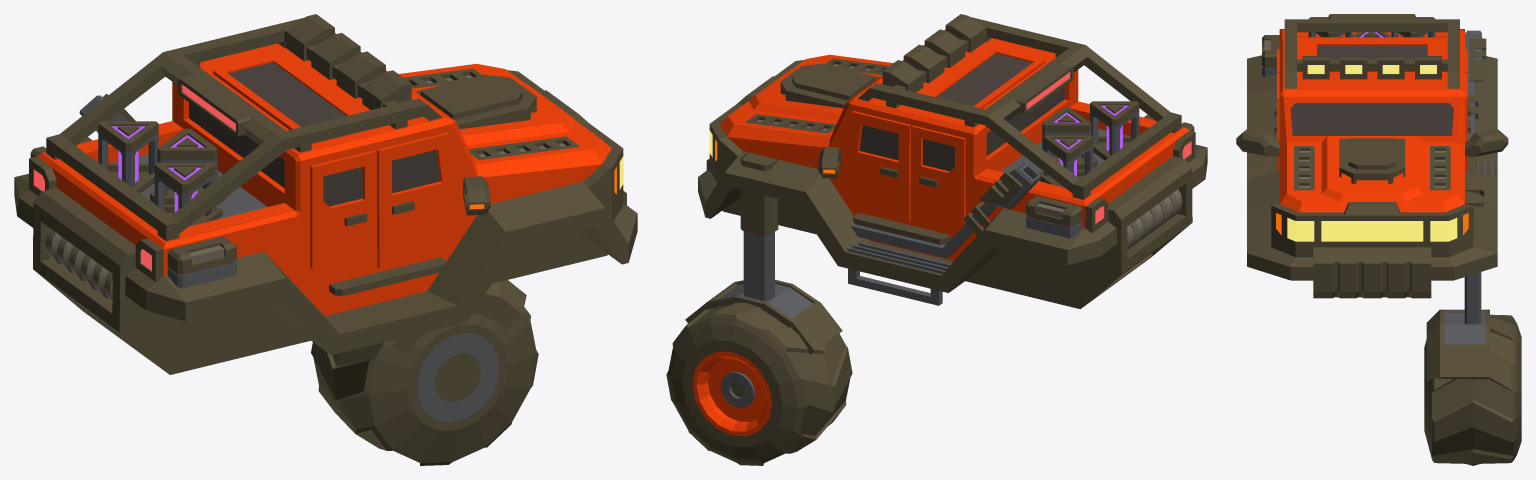
The picture shows the model from 3 angles, left to right: view 1: azimuth 30°, elevation 25°; view 2: azimuth 150°, elevation 25°; view 3: azimuth 270°, elevation 25°; orthographic projection. The views are drawn at different scales.
Parts seen in each view (by area): view 1: common, bodyPainted.001, wheel.006, wheelGuard.001, energy.001, cellsCage.003, cellsCage.005, cellsCage.004; view 2: common, bodyPainted.001, wheel.006, wheelPainted, wheelSuspension.002, wheelGuard.001, energy.001, cellsCage.005, cellsCage.003, cellsCage.004; view 3: common, bodyPainted.001, wheel.006, wheelGuard.001, headlights.001, wheelSuspension.002, energy.001.
Boxes of the visible parts, bbox=[...] form: common: bbox=[14, 14, 637, 374]; bodyPainted.001: bbox=[37, 33, 611, 315]; wheel.006: bbox=[311, 294, 538, 465]; wheelGuard.001: bbox=[383, 280, 526, 422]; energy.001: bbox=[45, 75, 566, 302]; cellsCage.003: bbox=[98, 121, 158, 187]; cellsCage.005: bbox=[154, 162, 214, 226]; cellsCage.004: bbox=[157, 128, 217, 195]; common: bbox=[698, 14, 1207, 309]; bodyPainted.001: bbox=[719, 29, 1188, 260]; wheel.006: bbox=[666, 296, 852, 465]; wheelPainted: bbox=[692, 351, 772, 436]; wheelSuspension.002: bbox=[740, 151, 778, 301]; wheelGuard.001: bbox=[685, 279, 842, 354]; energy.001: bbox=[756, 64, 1182, 249]; cellsCage.005: bbox=[1090, 101, 1139, 155]; cellsCage.003: bbox=[1044, 135, 1093, 187]; cellsCage.004: bbox=[1042, 107, 1091, 162]; common: bbox=[1236, 14, 1508, 298]; bodyPainted.001: bbox=[1277, 30, 1467, 212]; wheel.006: bbox=[1424, 314, 1521, 465]; wheelGuard.001: bbox=[1426, 309, 1489, 381]; headlights.001: bbox=[1287, 65, 1457, 241]; wheelSuspension.002: bbox=[1464, 190, 1483, 324]; energy.001: bbox=[1264, 40, 1445, 187].
Size of the model in its own units: 2.99 by 2.7 by 1.98.
7 materials, 1 textured.
